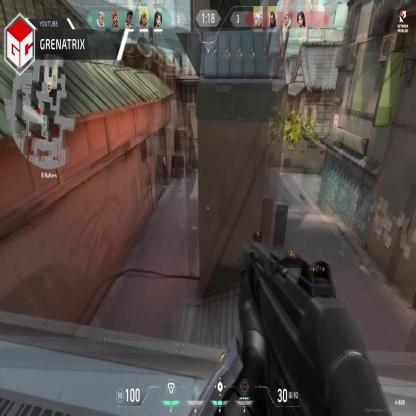enemy: (161, 152, 167, 181)
enemy_head: (163, 152, 166, 157)
